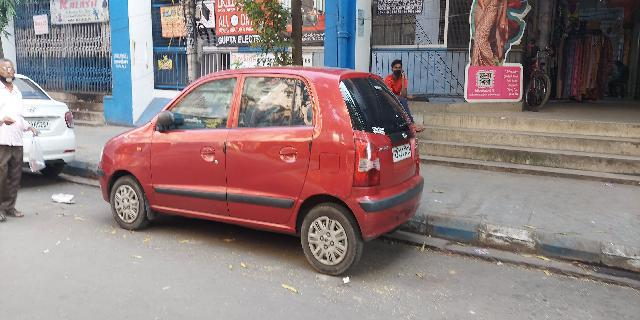Car: (95, 64, 427, 280), (1, 74, 79, 179)
